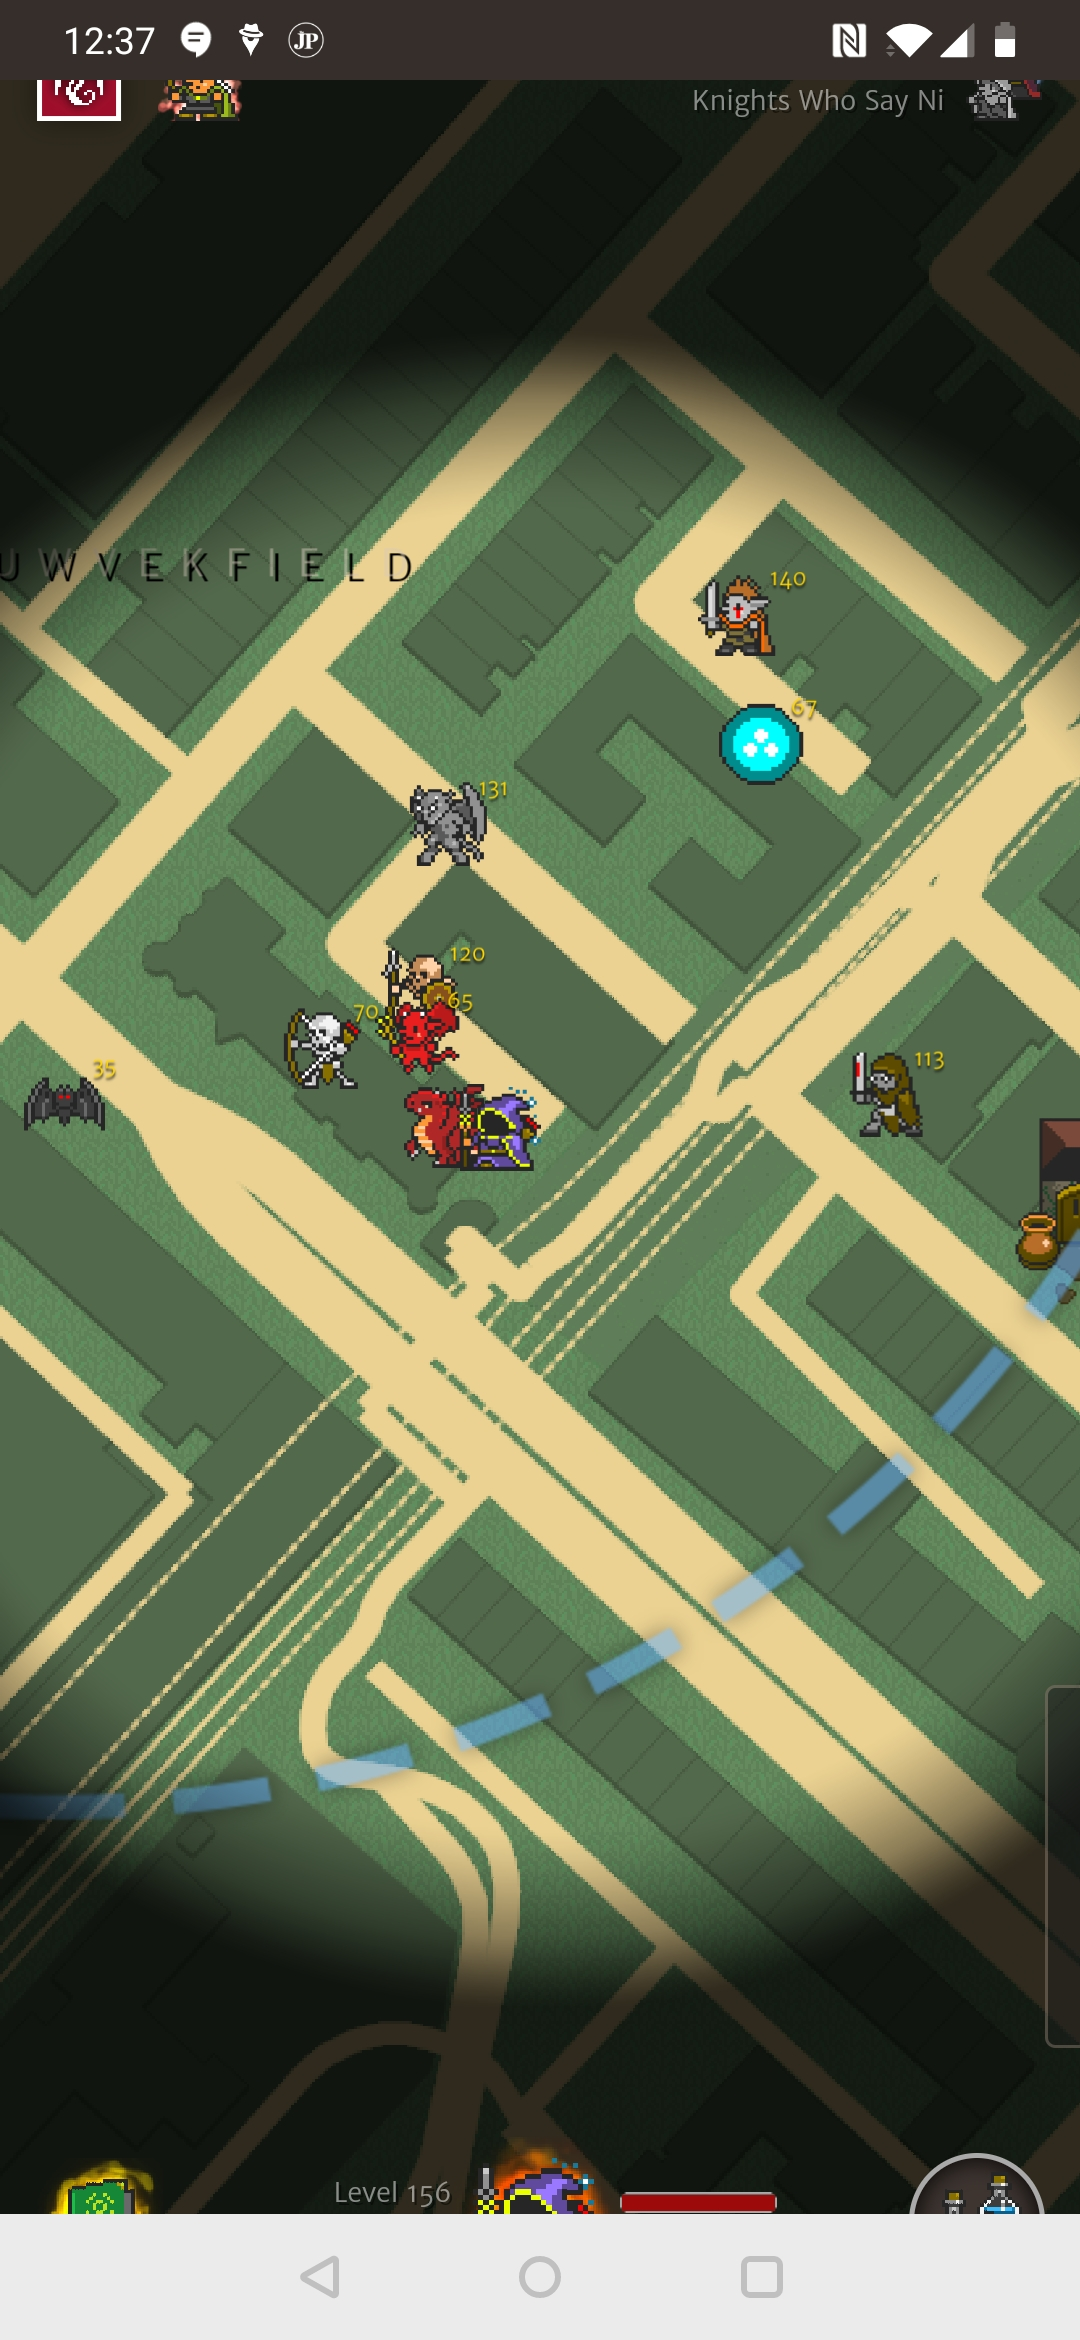monster: (8, 1051, 136, 1168), (691, 551, 812, 675), (846, 1040, 953, 1158), (388, 768, 515, 865), (274, 989, 388, 1096), (705, 696, 815, 792)
player: (457, 1096, 539, 1185)
